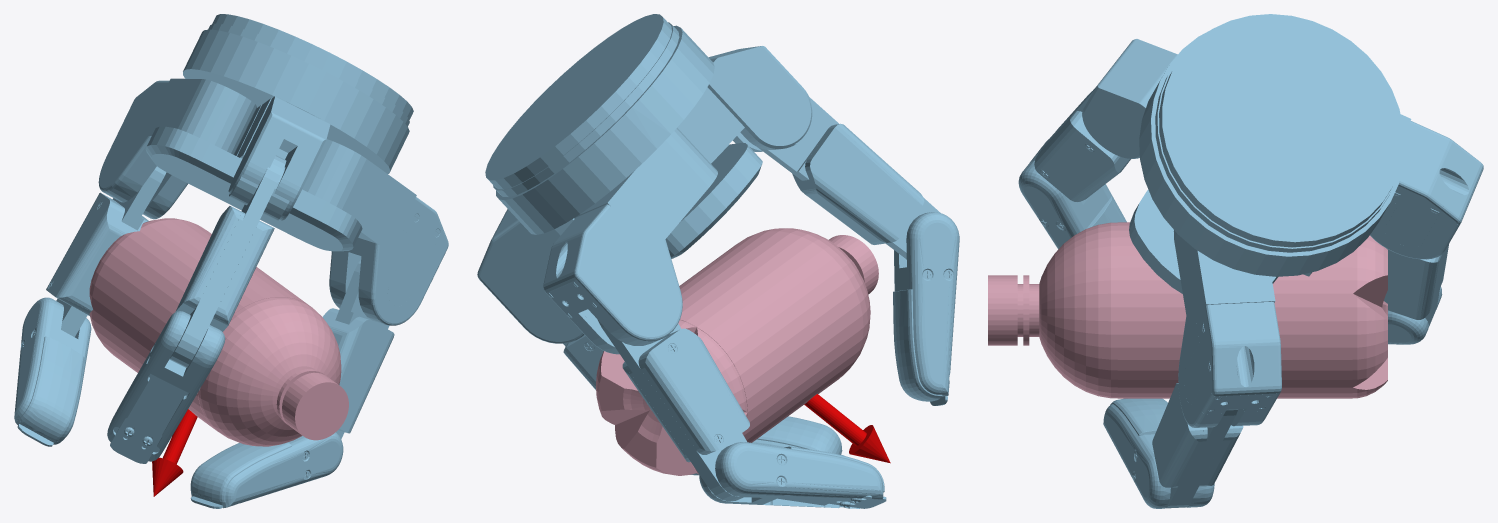
The picture shows the model from 3 angles, left to right: view 1: azimuth 30°, elevation 25°; view 2: azimuth 150°, elevation 25°; view 3: azimuth 270°, elevation 25°; orthographic projection. The views are drawn at different scales.
Parts seen in each view (by area): view 1: world, water_bottle.stl; view 2: world, water_bottle.stl; view 3: world, water_bottle.stl.
Boxes of the visible parts, x1,y1,x2,y2 form: world: (14,14,448,508); water_bottle.stl: (89,218,348,446); world: (477,14,959,508); water_bottle.stl: (595,228,878,475); world: (1018,14,1483,508); water_bottle.stl: (988,222,1387,398).
Size of the model in its own units: 0.1765 by 0.1821 by 0.1692.
